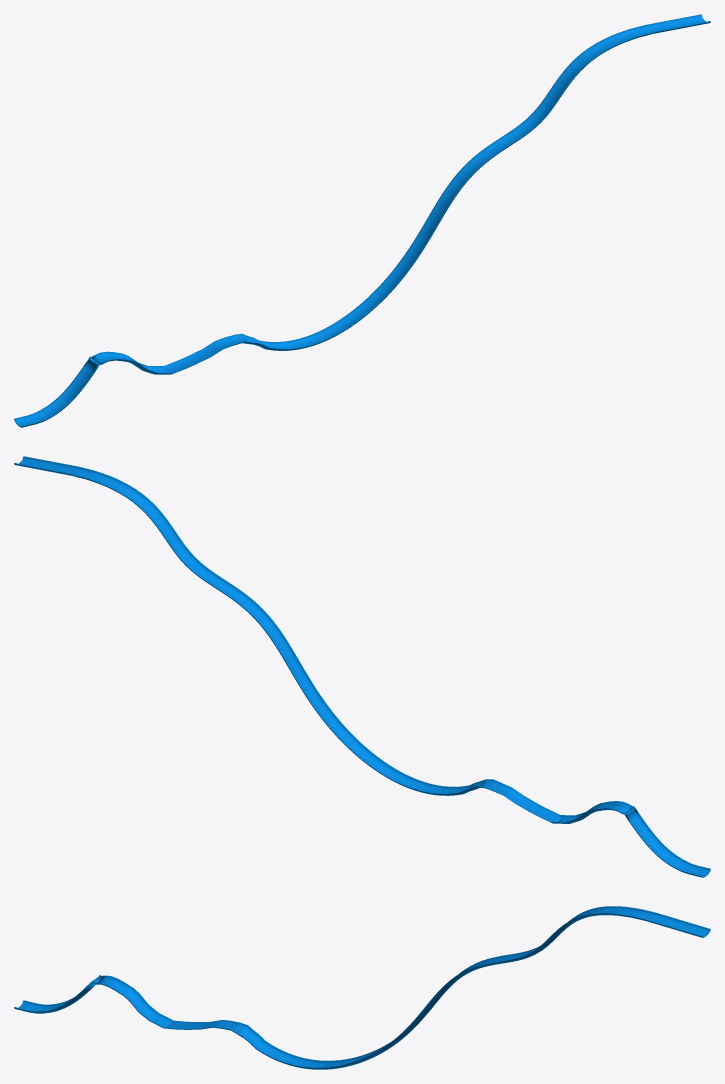
Rendered from slideWater.fbx.
3 renders of one model, top to bottom at view 1: azimuth 30°, elevation 25°; view 2: azimuth 150°, elevation 25°; view 3: azimuth 330°, elevation 25°, orthographic.
Visible parts, largest first — view 1: Cylinder; view 2: Cylinder; view 3: Cylinder.
Part boxes in pixels (bbox=[...]): Cylinder: bbox=[14, 14, 710, 427]; Cylinder: bbox=[14, 456, 710, 877]; Cylinder: bbox=[14, 906, 710, 1069].
Size of the model in its own units: 19621 by 6764 by 643.
